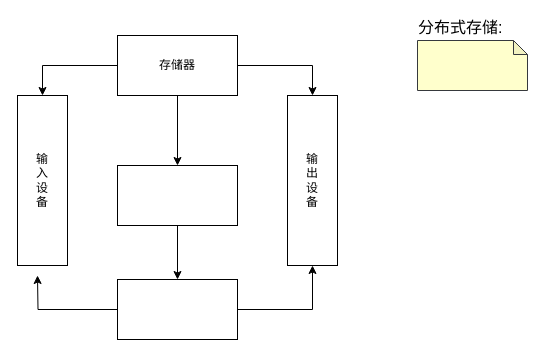
Some shapes in this 545 by 357 pixel diagram are drawn without their labels. The centre of each missing label's shape, as x and y in pixels:
控制器: the point at 177,309
运算器: the point at 177,195
